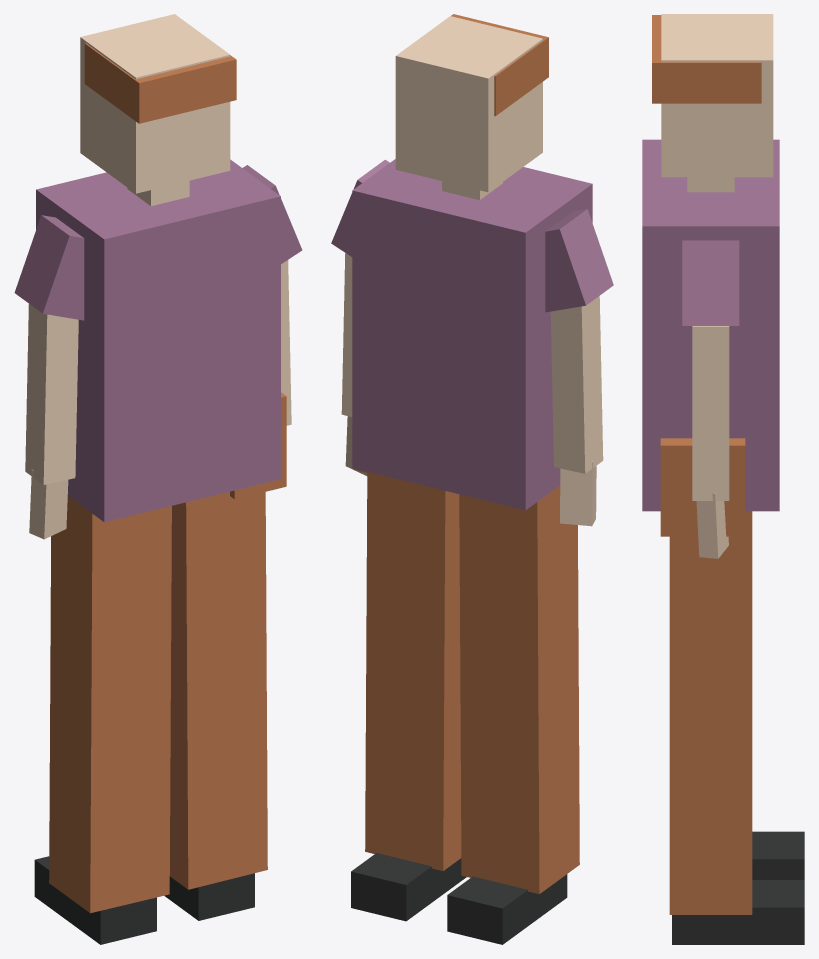
Rendered from pedestrian_15_far.glb.
3 renders of one model, left to right at view 1: azimuth 30°, elevation 25°; view 2: azimuth 150°, elevation 25°; view 3: azimuth 270°, elevation 25°, orthographic. The views are drawn at different scales.
Parts seen in each view (by area): view 1: pedestrian_15 crowd_trousers.001, pedestrian_15 crowd_shirt.001, pedestrian_15 crowd_skin.001, pedestrian_15 crowd_rubber.001, pedestrian_15 crowd_accessory.001; view 2: pedestrian_15 crowd_trousers.001, pedestrian_15 crowd_shirt.001, pedestrian_15 crowd_skin.001, pedestrian_15 crowd_rubber.001; view 3: pedestrian_15 crowd_shirt.001, pedestrian_15 crowd_trousers.001, pedestrian_15 crowd_skin.001, pedestrian_15 crowd_rubber.001, pedestrian_15 crowd_accessory.001.
Boxes of the visible parts, x1,y1,x2,y2 form: pedestrian_15 crowd_trousers.001: (49, 491, 267, 913); pedestrian_15 crowd_shirt.001: (14, 159, 302, 522); pedestrian_15 crowd_skin.001: (25, 14, 291, 539); pedestrian_15 crowd_rubber.001: (34, 43, 254, 944); pedestrian_15 crowd_accessory.001: (230, 392, 286, 499); pedestrian_15 crowd_trousers.001: (365, 472, 579, 894); pedestrian_15 crowd_shirt.001: (331, 159, 613, 510); pedestrian_15 crowd_skin.001: (341, 16, 603, 526); pedestrian_15 crowd_rubber.001: (351, 14, 567, 944); pedestrian_15 crowd_shirt.001: (642, 139, 779, 511); pedestrian_15 crowd_trousers.001: (669, 511, 752, 914); pedestrian_15 crowd_skin.001: (661, 14, 773, 558); pedestrian_15 crowd_rubber.001: (652, 15, 804, 944); pedestrian_15 crowd_accessory.001: (660, 438, 745, 536).
Size of the model in its own units: 0.5488 by 1.74 by 0.2952.
